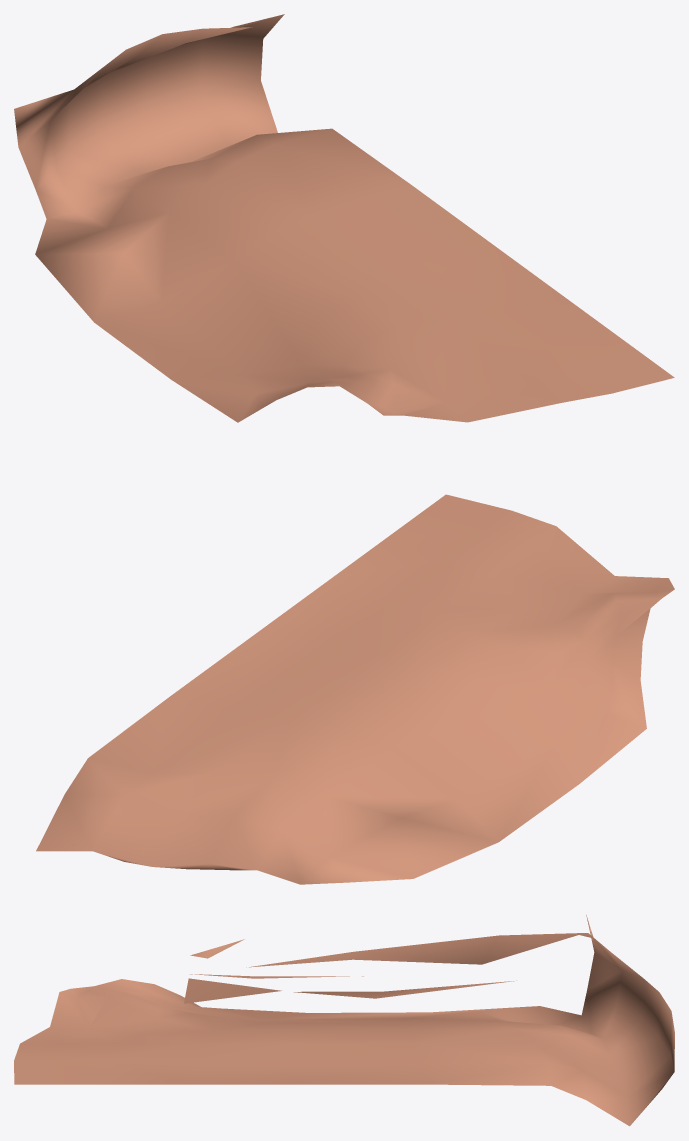
The model's file is soft-palate.glb.
3 views of the same model, one above another, from view 1: azimuth 30°, elevation 25°; view 2: azimuth 150°, elevation 25°; view 3: azimuth 270°, elevation 25° (orthographic). The views are drawn at different scales.
Visible parts, largest first — view 1: Soft palate; view 2: Soft palate; view 3: Soft palate.
Part boxes in pixels (box(x1,y1,x2,y2)): Soft palate: box(14, 14, 674, 422); Soft palate: box(36, 494, 674, 884); Soft palate: box(14, 915, 674, 1126).
Size of the model in its own units: 0.0176 by 0.0101 by 0.0407.
